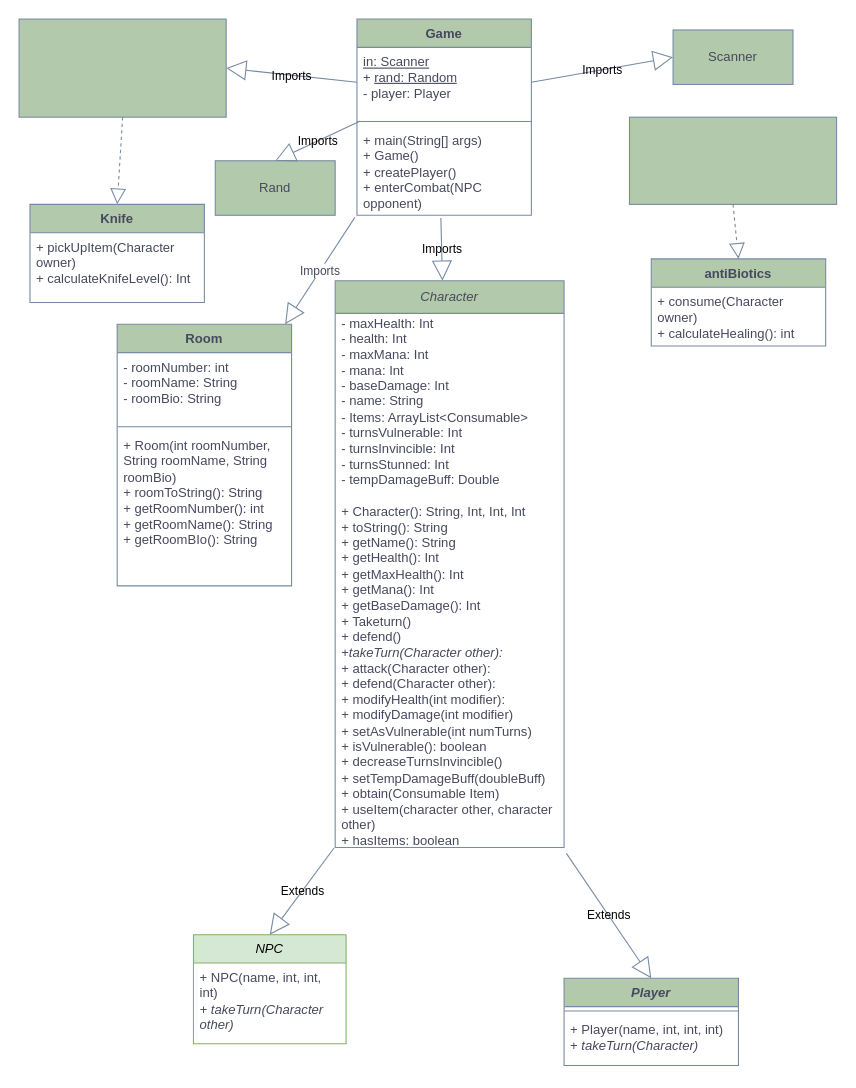
The diagram is 856 pixels wide and 1088 high, and some of its shapes have lost their labels. The shapes that lost their labels are listed below. From the top down, each one's centre as x and y in pixels, then its label:
At point 122,67: "<<Interface>> Weapons + pickUpItem(Character owner):".
At point 732,160: "<<Interface>> Consumable + consum(Character owner)".
